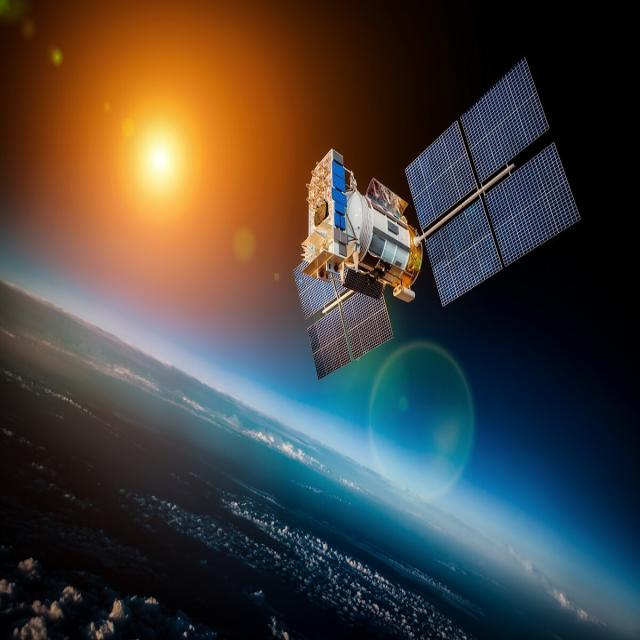medium_debris: (282, 53, 590, 392)
